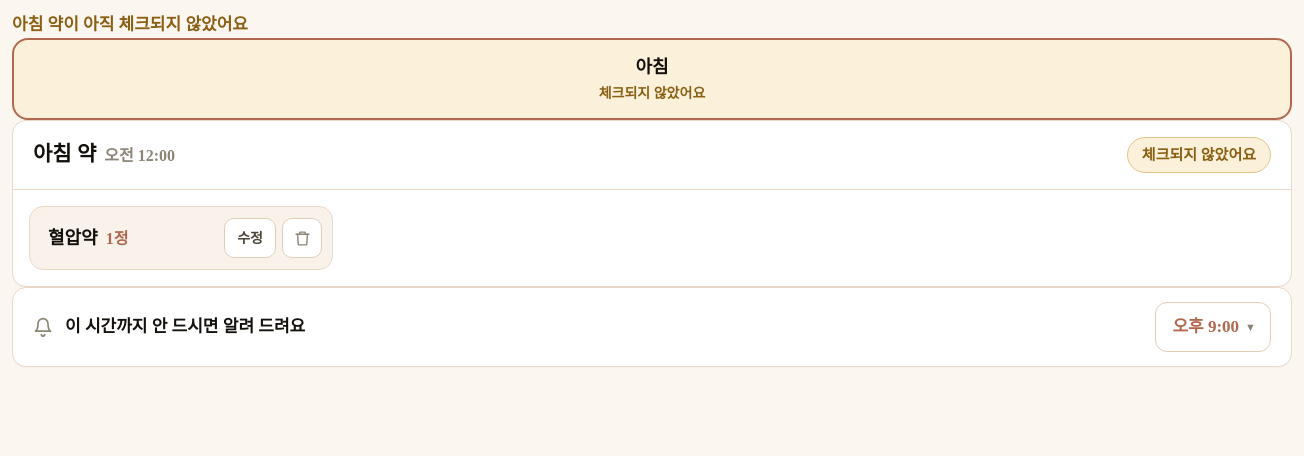
Test: WardMedicationCard (Chrome) › 단건 삭제가 실패하면 안내를 보여 준다
Click the button named "혈압약 삭제" at [302, 238], box [282,218,322,258]
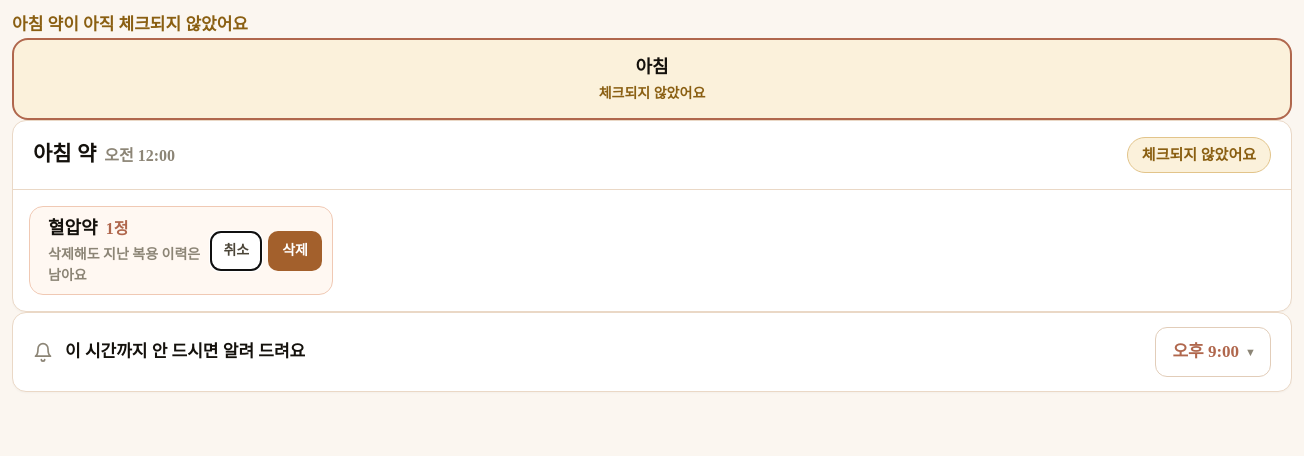
Click the button named "혈압약 삭제하기" at [295, 250], box [268,230,322,270]
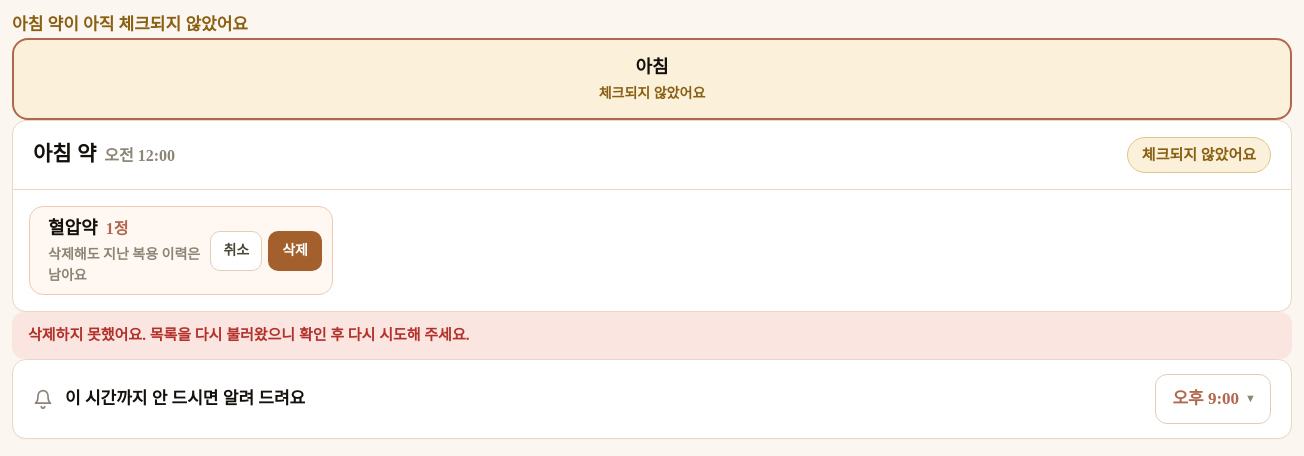
Expected: the message shows "삭제하지 못했어요", [28,327,470,343]
